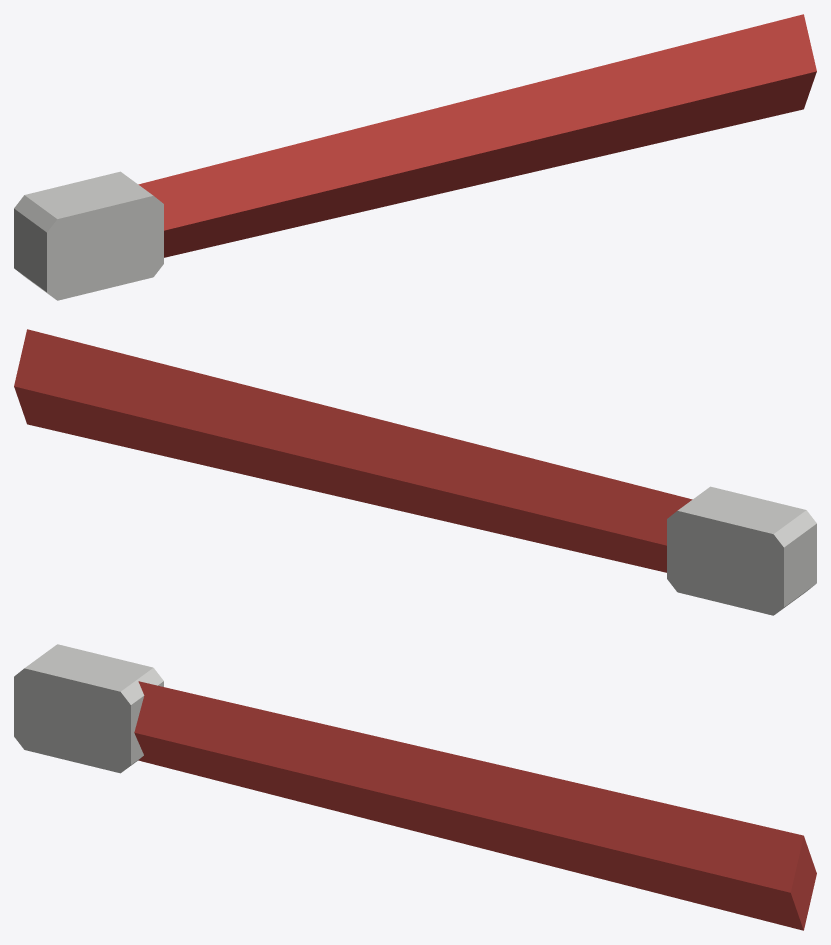
Rendered from box_arm_lod2.glb.
3 views of the same model, one above another, from view 1: azimuth 30°, elevation 25°; view 2: azimuth 150°, elevation 25°; view 3: azimuth 330°, elevation 25° (orthographic).
Visible parts, largest first — view 1: box_arm_lod2; view 2: box_arm_lod2; view 3: box_arm_lod2.
Part boxes in pixels (x1,y1,x2,y2): box_arm_lod2: (14,14,816,300); box_arm_lod2: (14,329,816,615); box_arm_lod2: (14,644,816,930).
Bounding box in the file's own units: 0.595 × 0.07 × 0.044.
